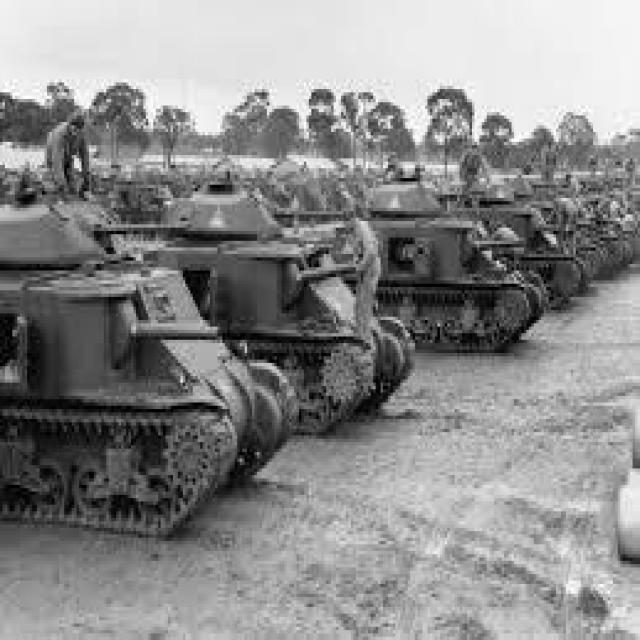Tanks: (5, 183, 299, 553), (162, 175, 419, 432), (369, 177, 550, 361), (474, 185, 590, 323), (554, 194, 606, 284), (594, 198, 632, 257)
